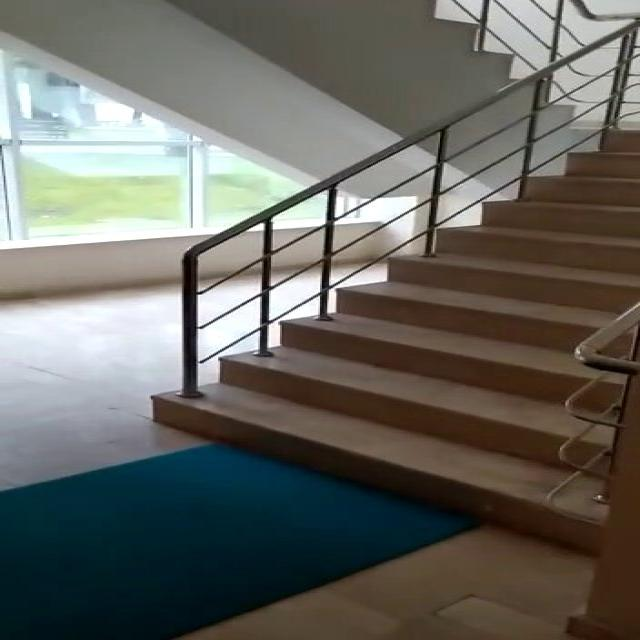upstair: (194, 161, 640, 417)
